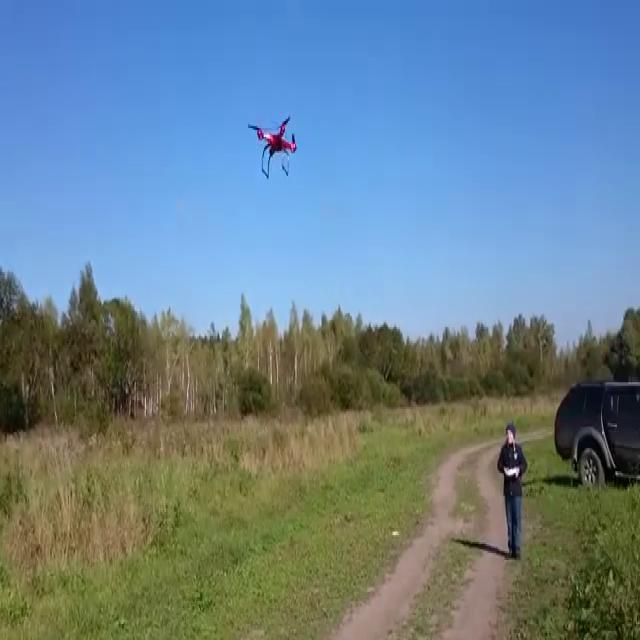Drons: (244, 110, 302, 180)
